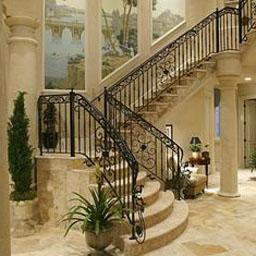Escaleras: (39, 97, 190, 245), (95, 15, 226, 144)
Matera: (8, 89, 43, 236), (72, 188, 124, 254), (44, 102, 60, 151)
